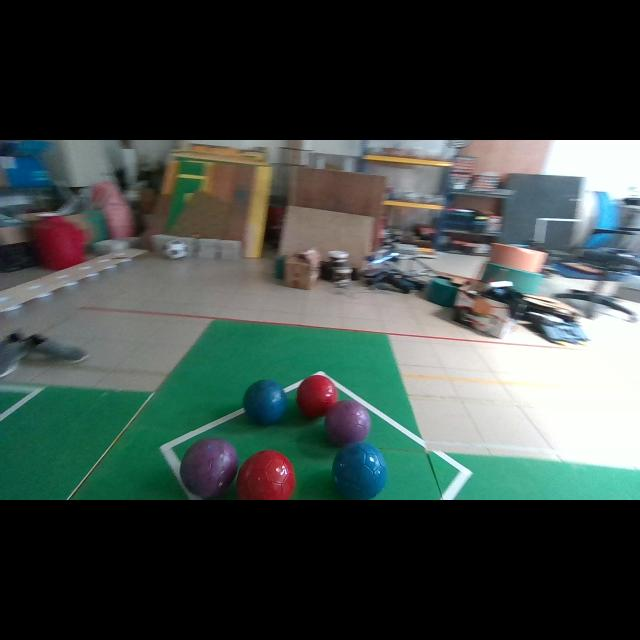B: (331, 441, 388, 499), (242, 380, 286, 425)
P: (180, 438, 238, 499), (325, 400, 371, 446)
R: (238, 450, 295, 500), (296, 375, 338, 418)
